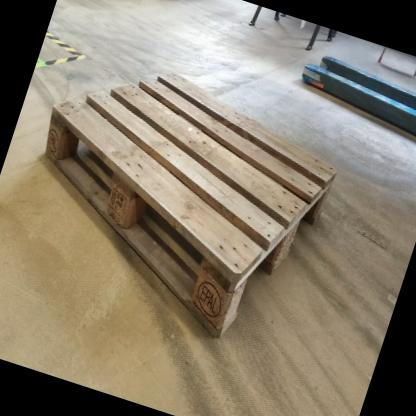BoxFace: (40, 68, 342, 348)
